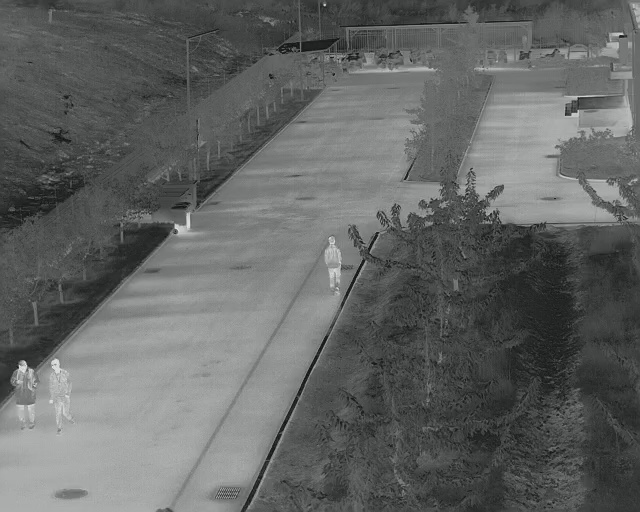person: (8, 360, 39, 432), (48, 358, 76, 437), (322, 234, 343, 296)
